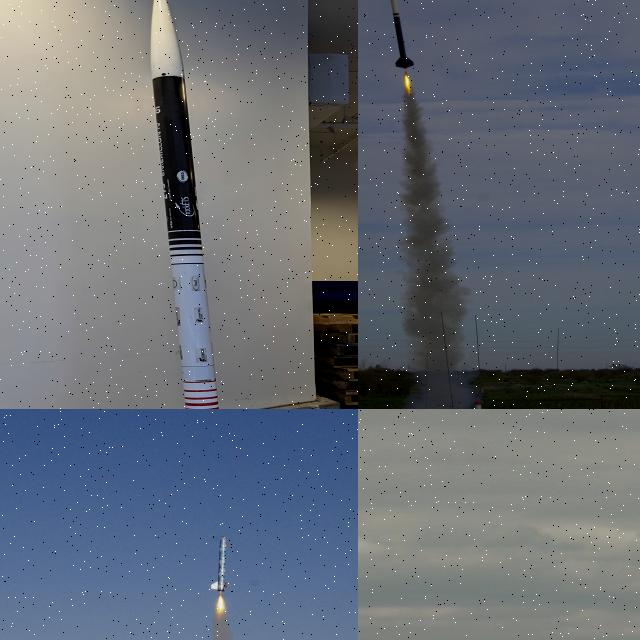Rocket: (150, 0, 219, 409), (387, 0, 414, 69), (211, 536, 229, 592)
